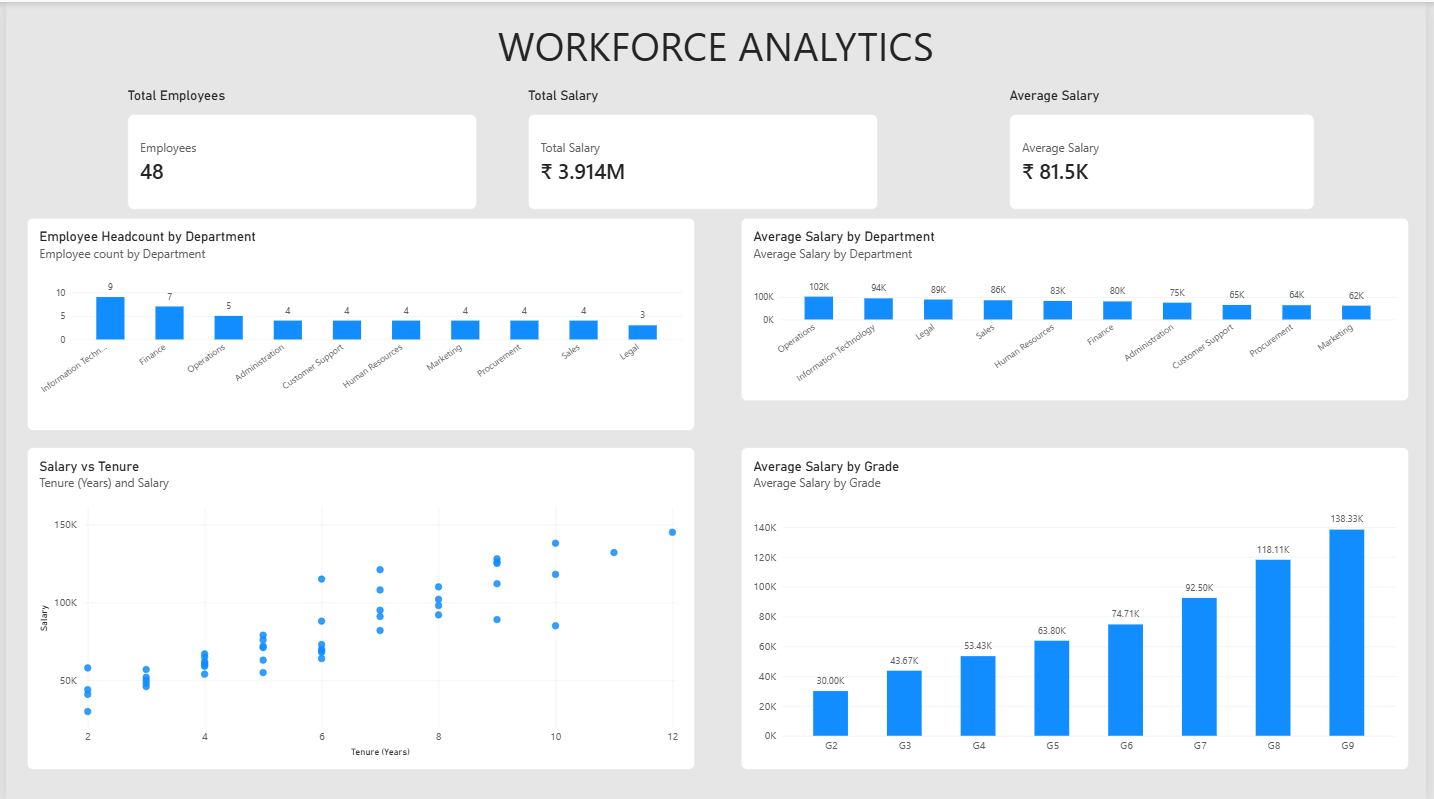

Layout of this report page (visuals, bound fields, positions):
{"tool":"powerbi","page":{"name":"Page 1","canvas":[1920,1080],"ordinal":0},"visuals":[{"type":"columnChart","title":"Average Salary by Department","fields":{"Category":["employees.department"],"Y":["Avg(employees.salary)"]},"box":[992.5,292.5,902.5,247.5],"z":0},{"type":"cardVisual","title":"Total Employees","fields":{"Data":["CountNonNull(employees.employee_id)"]},"box":[163.3,115.8,472.5,165],"z":1000},{"type":"cardVisual","title":"Total Salary","fields":{"Data":["Sum(employees.salary)"]},"box":[705.8,115.8,473,165],"z":2000},{"type":"cardVisual","title":"Average Salary","fields":{"Data":["Avg(employees.salary)"]},"box":[1355.8,115.8,412.5,165],"z":3000},{"type":"clusteredColumnChart","title":"Employee Headcount by Department","fields":{"Category":["employees.department"],"Y":["CountNonNull(employees.employee_id)"]},"box":[27.5,292.5,902.5,287.5],"z":4000},{"type":"textbox","box":[452.5,22.5,1015,77.5],"z":5000},{"type":"textbox","box":[30,800,903,280],"z":6000},{"type":"scatterChart","title":"Salary vs Tenure","fields":{"X":["employees.Tenure Years"],"Y":["employees.salary"]},"box":[27.5,602.5,902.5,435],"z":7000},{"type":"columnChart","title":"Average Salary by Grade","fields":{"Category":["employees.grade"],"Y":["Avg(employees.salary)"]},"box":[992.5,602.5,902.5,435],"z":8000}]}

Visuals, with their boxes in screenshot pixels (x1, y1, x2, y2), scaled from the page's 1920x1080 canvas onto the 1434x799 screenshot:
"Average Salary by Department" columnChart: 741 216 1415 400
"Total Employees" cardVisual: 122 86 475 208
"Total Salary" cardVisual: 527 86 880 208
"Average Salary" cardVisual: 1013 86 1321 208
"Employee Headcount by Department" clusteredColumnChart: 21 216 695 429
textbox: 338 17 1096 74
textbox: 22 592 697 798
"Salary vs Tenure" scatterChart: 21 446 695 768
"Average Salary by Grade" columnChart: 741 446 1415 768
